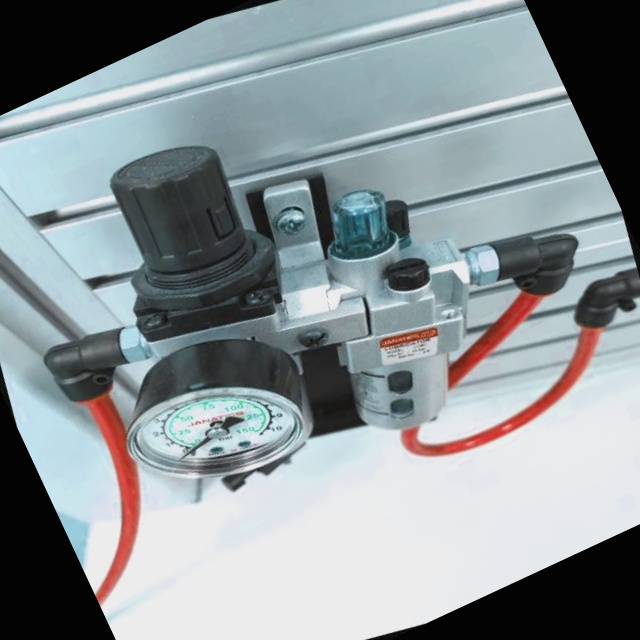FRL unit: (0, 0, 605, 629)
